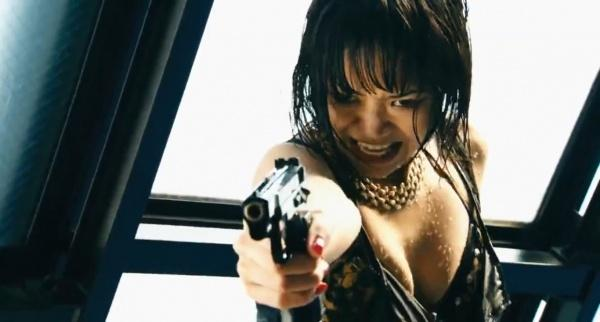Gun: (241, 153, 325, 322)
